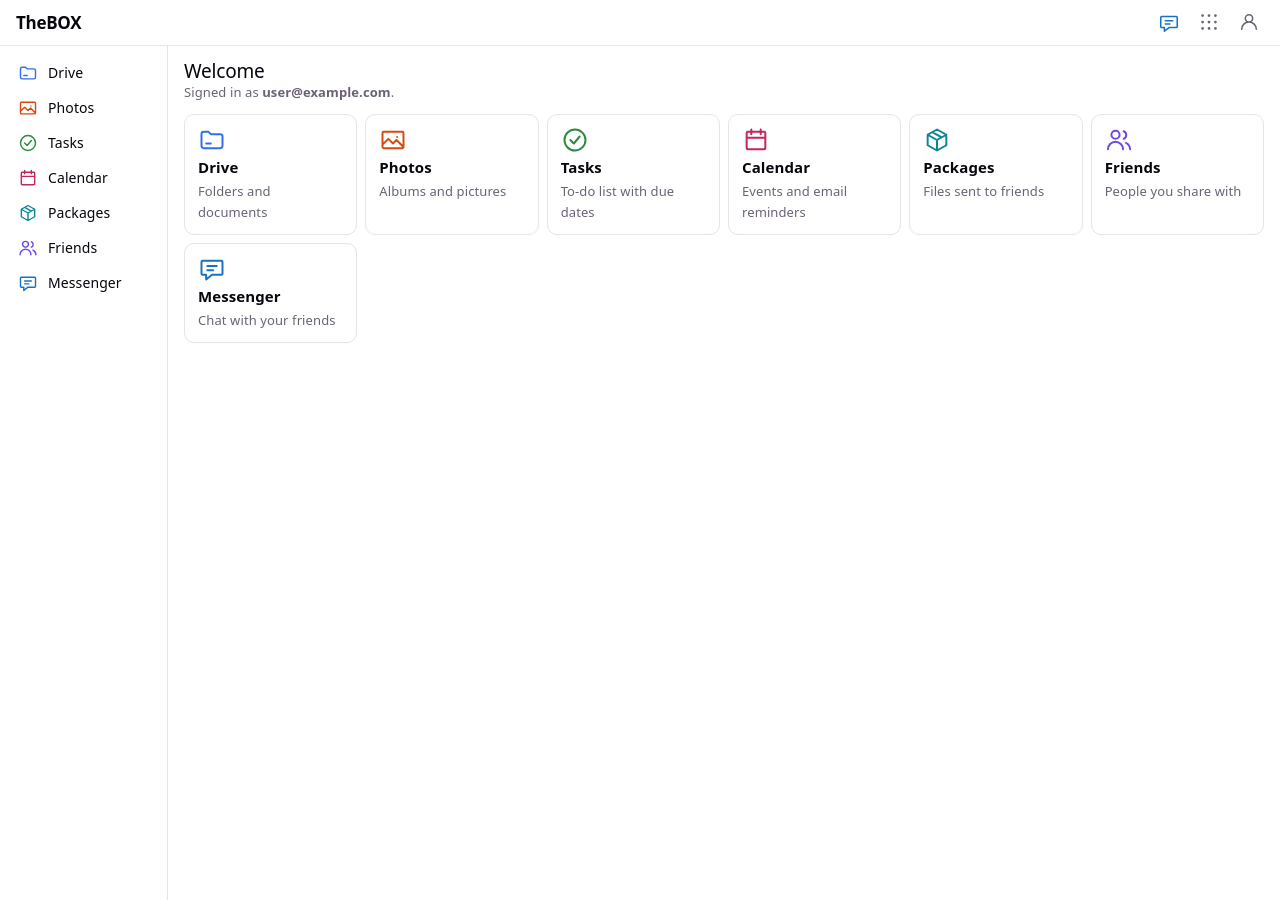
Scenario: App › signs out and returns to the sign-in page
Click the button named "Account" at (1249, 22), box [1234, 7, 1264, 37]
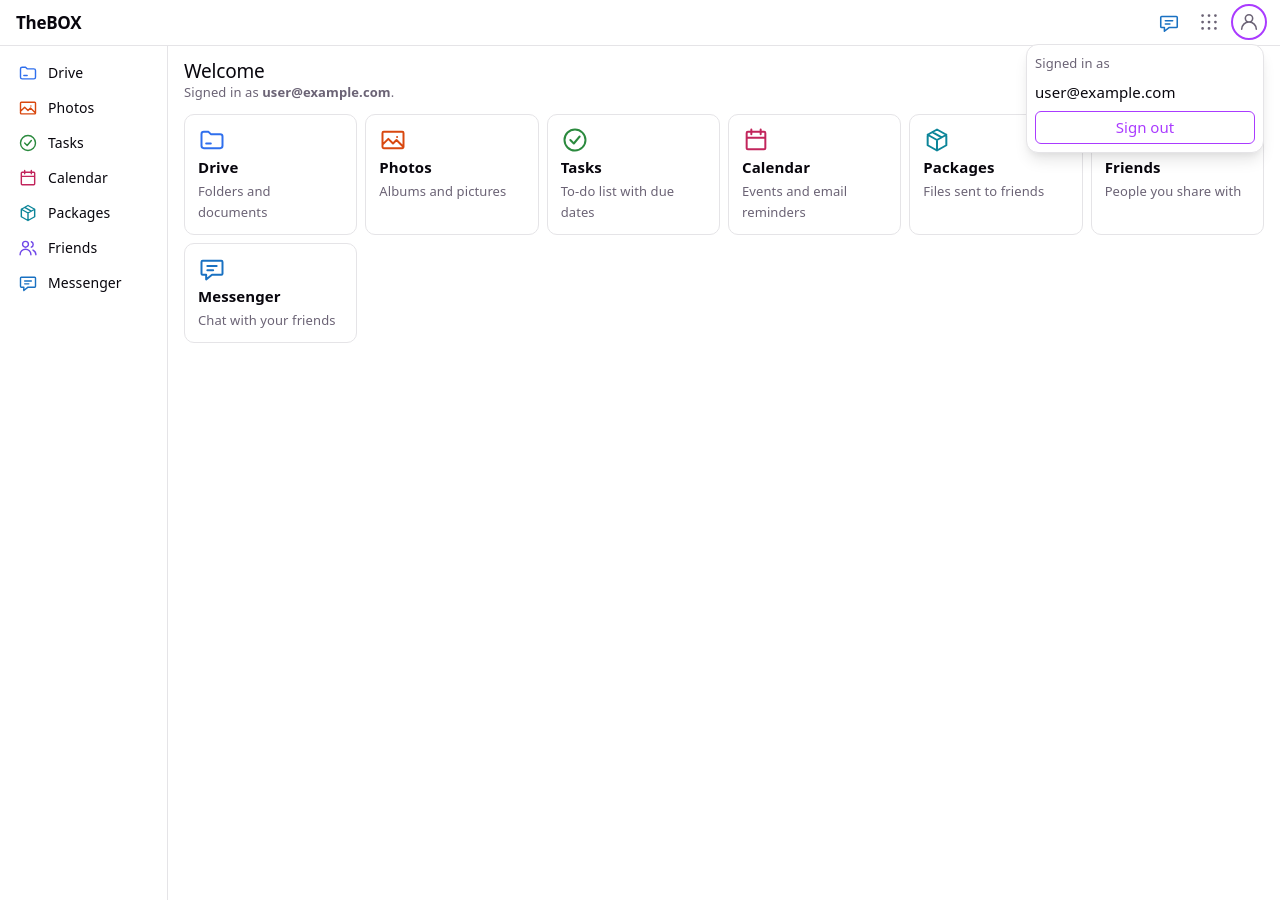
Click the button "Sign out" at (1145, 128), box [1035, 111, 1255, 144]
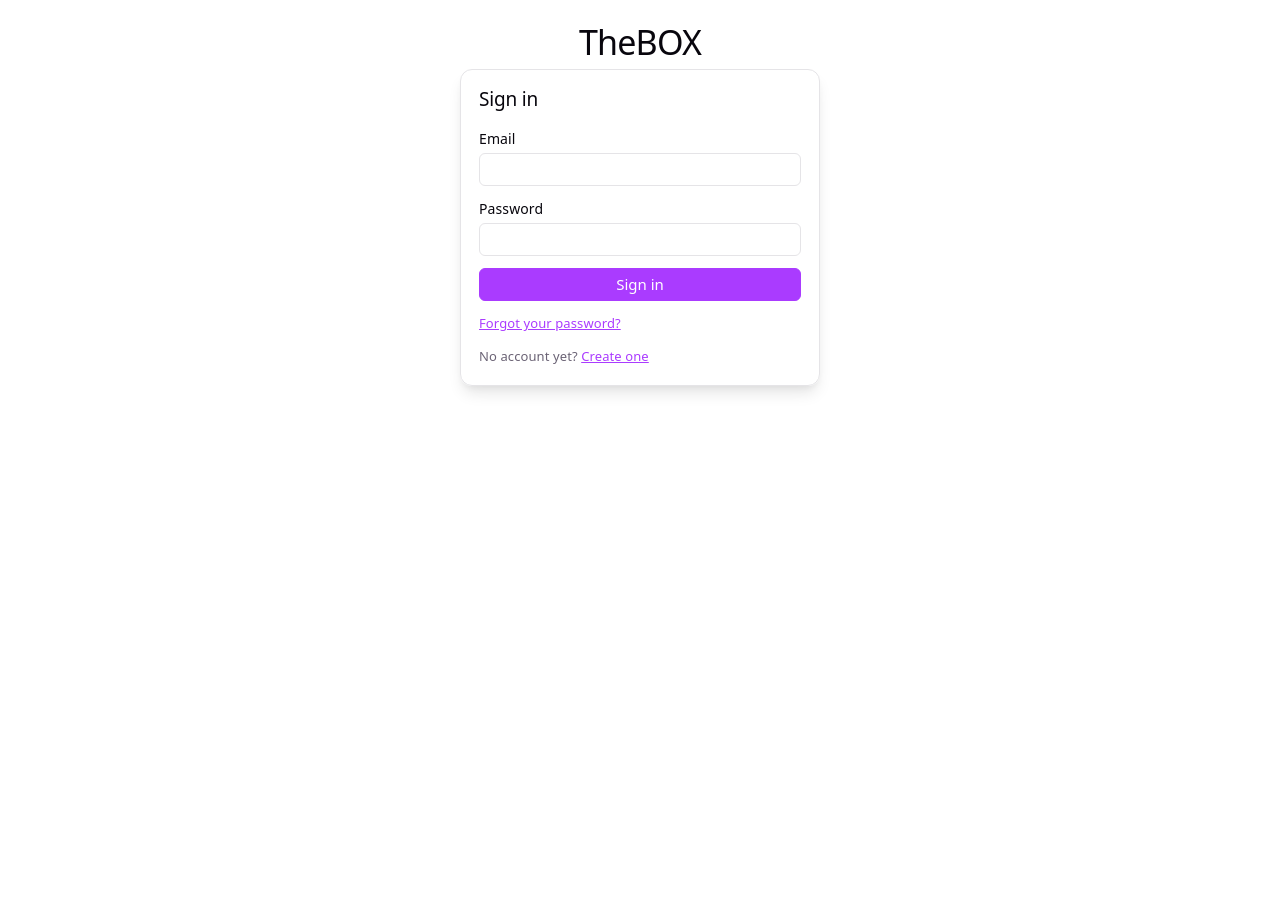
Check: the heading "Sign in" is shown, box [479, 86, 538, 112]
